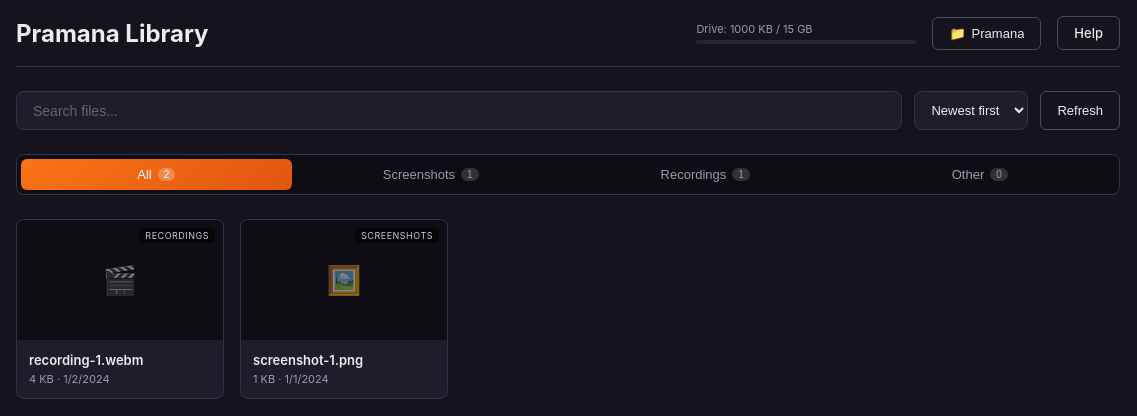
Test: Dashboard App › filters by search and folder, and sorts
Expected: the heading "screenshot-1.png" is shown, x1=253 y1=352 x2=363 y2=368
Type "record" into the field with placeholder "Search files..." at (459, 110), box x1=16 y1=91 x2=902 y2=130
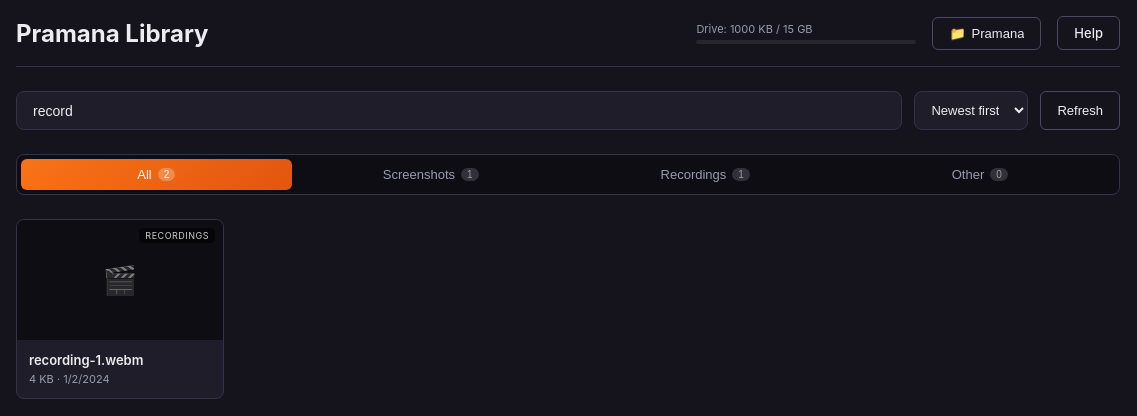
Now the button "screenshot-1.png" is gone
Clear the field with placeholder "Search files..." at (459, 110), box x1=16 y1=91 x2=902 y2=130
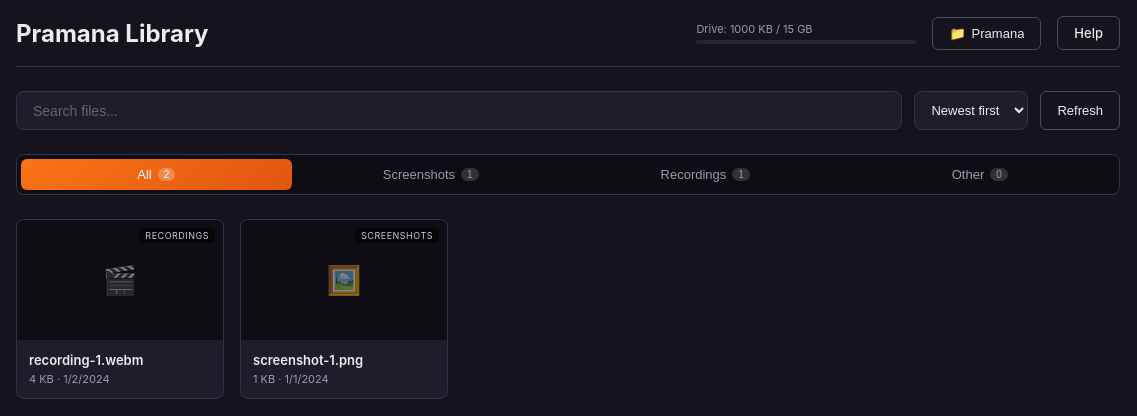
Select "Oldest first" in the dropdown named "Sort files" at (972, 110), box x1=914 y1=91 x2=1028 y2=130
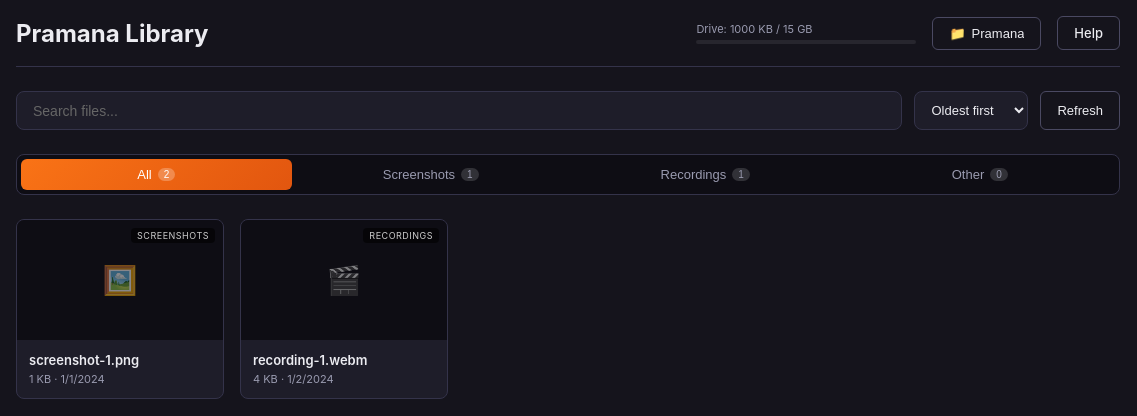
Click the button "Recordings 1" at (705, 174), box x1=570 y1=159 x2=840 y2=190
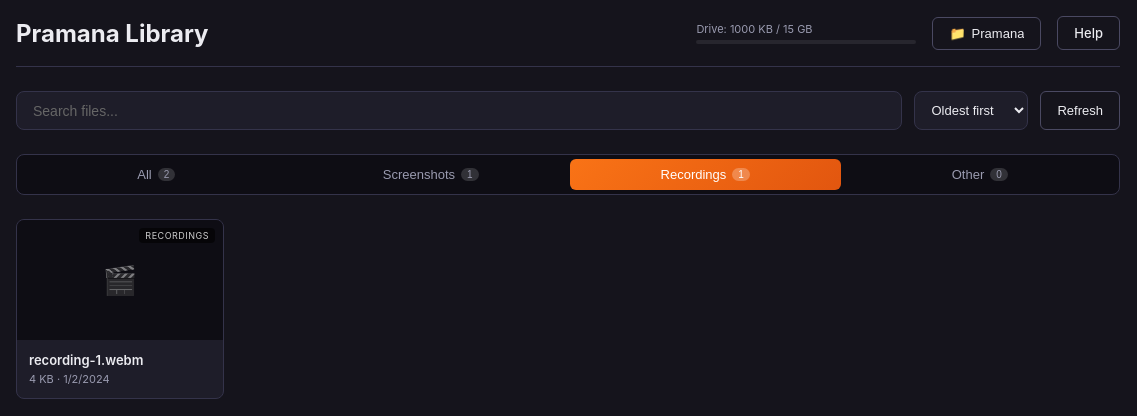
Now the button "screenshot-1.png" is gone
